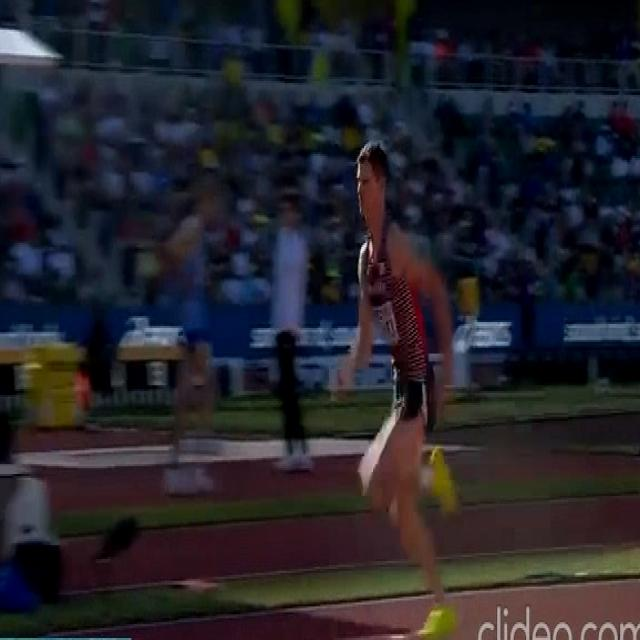run: (342, 144, 455, 640)
